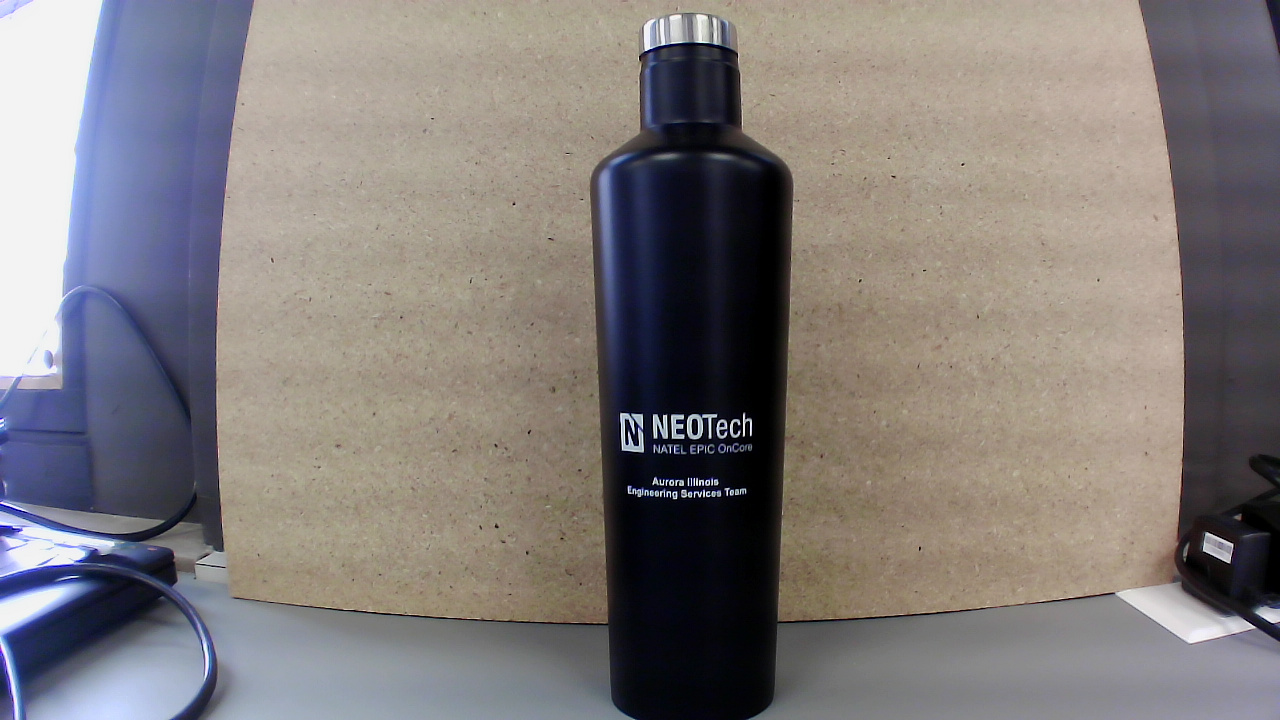neobottle: (583, 8, 801, 719)
